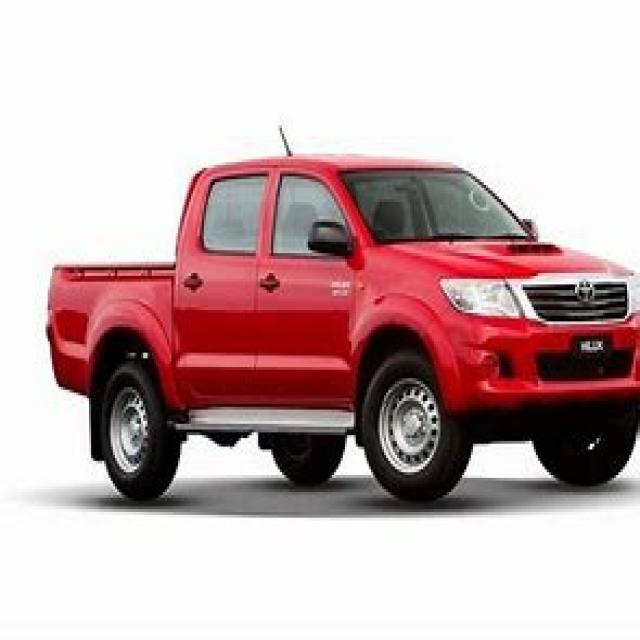light_vehicle: (30, 142, 638, 518)
